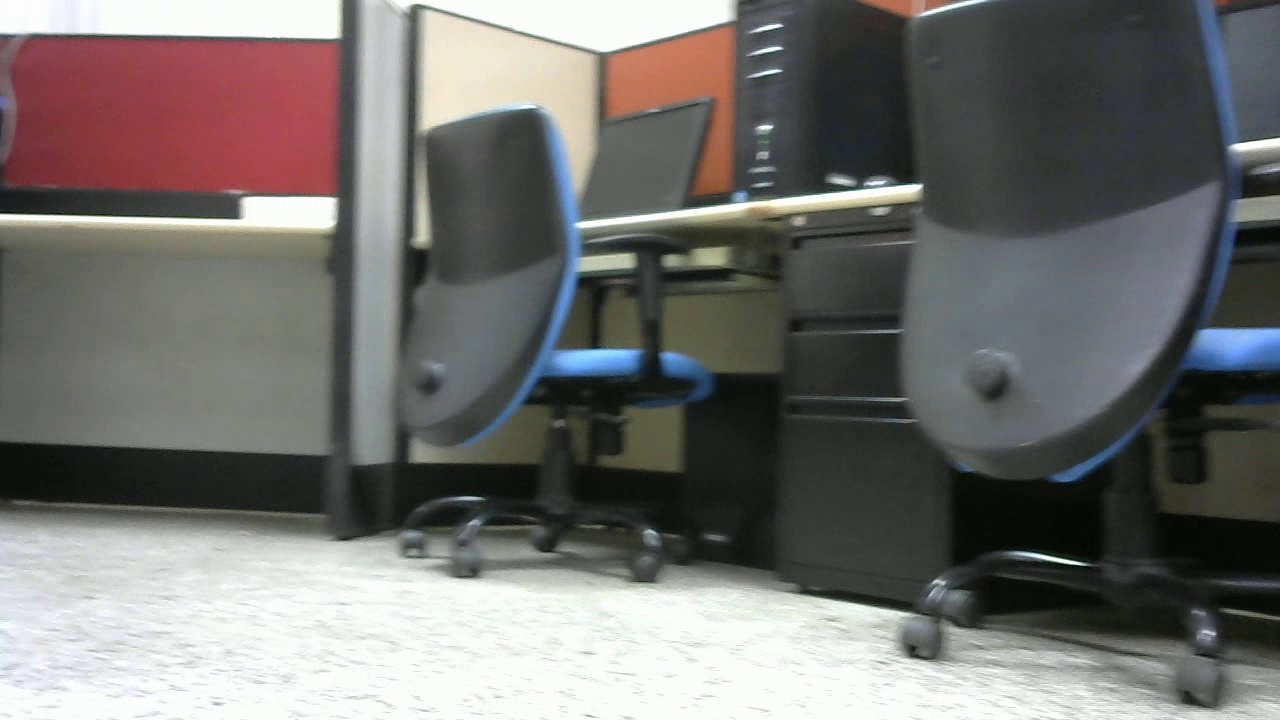chair: (895, 1, 1280, 703), (361, 101, 722, 585)
